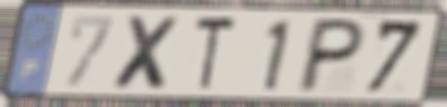1: (260, 17, 294, 93)
7: (361, 18, 427, 96), (64, 14, 117, 91)
P: (292, 16, 370, 96)
T: (192, 14, 241, 95)
X: (109, 13, 186, 94)
